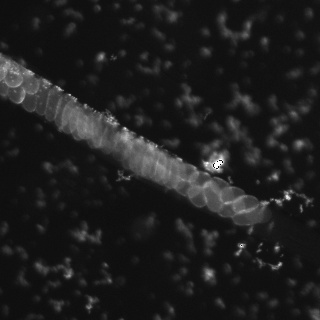embryo: (203, 179, 224, 212), (123, 139, 145, 169), (55, 93, 74, 127), (163, 157, 181, 190), (45, 87, 62, 120), (78, 104, 94, 139), (149, 151, 167, 182), (113, 134, 134, 160), (143, 147, 161, 177), (154, 153, 171, 184), (35, 80, 50, 115), (70, 110, 86, 141), (62, 101, 77, 134), (101, 125, 118, 154), (172, 180, 199, 198), (218, 200, 246, 217), (131, 151, 149, 177), (233, 210, 264, 225), (88, 115, 102, 148), (188, 186, 208, 208), (234, 195, 258, 213), (220, 187, 245, 204), (210, 177, 232, 196), (175, 164, 198, 182), (4, 67, 23, 88), (190, 171, 212, 189), (246, 207, 272, 222), (97, 114, 111, 140), (21, 90, 37, 112), (9, 83, 25, 104), (21, 75, 38, 94)
